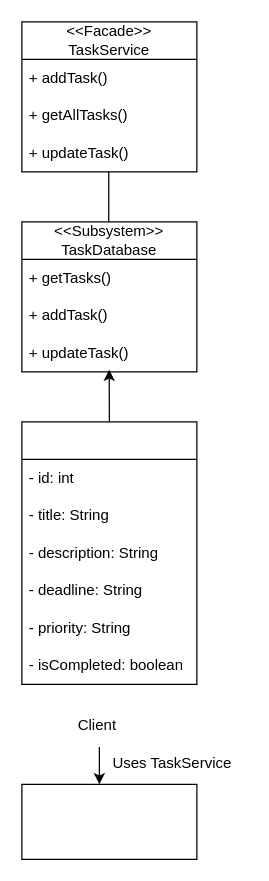
Some shapes in this 269 by 881 pixel diagram are drawn without their labels. Each missing label, with the box of its shape:
<< Client >> Application: (21, 783, 197, 859)
<< Model >> Task: (21, 421, 197, 684)
